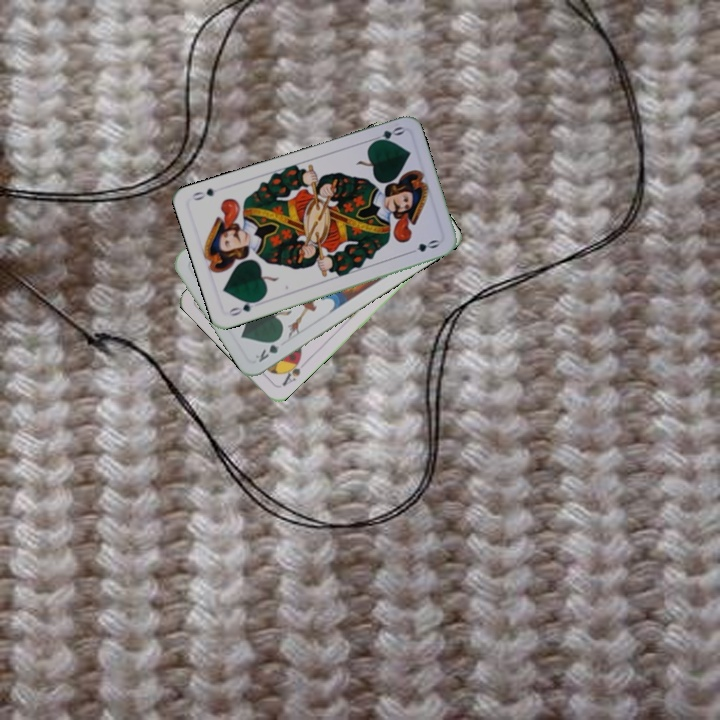GK: (251, 333, 284, 365)
GO: (366, 122, 406, 147), (224, 295, 263, 319)
SA: (278, 353, 304, 389)
